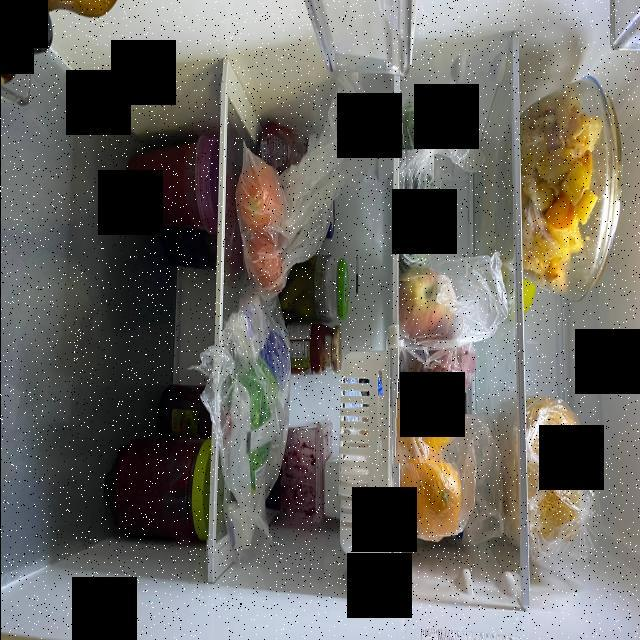Apple: (399, 276, 454, 342), (441, 333, 475, 383)
Cucumber: (399, 94, 434, 208), (399, 206, 426, 282)
Orange: (395, 369, 458, 464), (406, 456, 458, 535)
Tomato: (241, 167, 280, 234), (246, 238, 282, 292)
